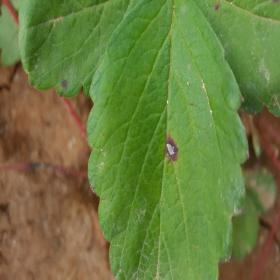Leaf Spot: (85, 0, 249, 279), (18, 0, 140, 101), (193, 0, 279, 117)
